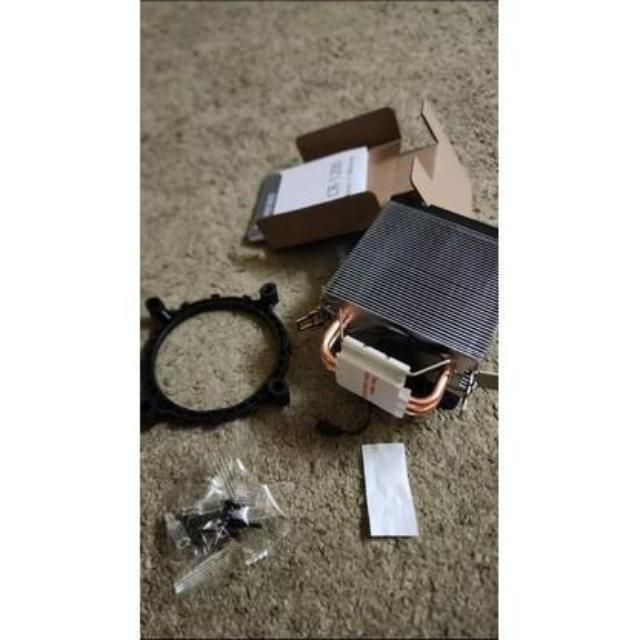CPU_Fan: (318, 197, 502, 423)
